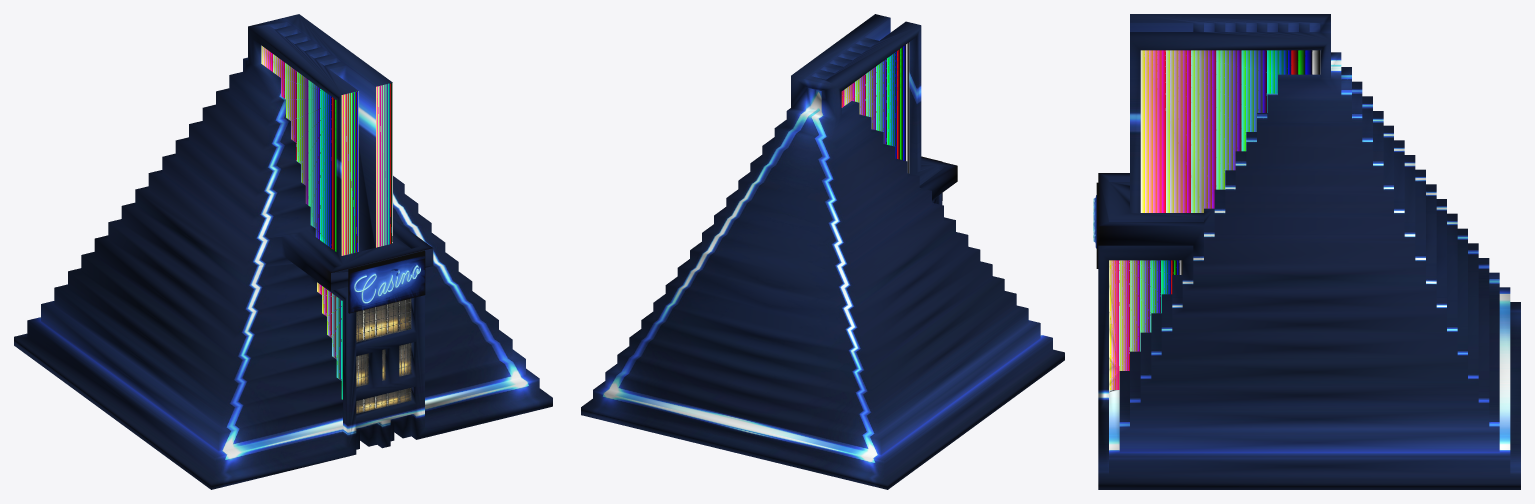
Rendered from pyramid_casino.glb.
3 views of the same model, side by side, from view 1: azimuth 30°, elevation 25°; view 2: azimuth 150°, elevation 25°; view 3: azimuth 270°, elevation 25° (orthographic). The views are drawn at different scales.
Visible parts, largest first — view 1: Object_3, Object_5, Object_4, Object_6, Object_2; view 2: Object_3, Object_5; view 3: Object_3, Object_5.
Boxes of the visible parts, x1,y1,x2,y2 form: Object_3: [14, 14, 552, 489]; Object_5: [261, 45, 424, 399]; Object_4: [356, 298, 411, 413]; Object_6: [349, 251, 425, 313]; Object_2: [331, 248, 433, 290]; Object_3: [581, 14, 1064, 489]; Object_5: [841, 42, 942, 200]; Object_3: [1098, 14, 1520, 489]; Object_5: [1096, 50, 1320, 389].
Size of the model in its own units: 50.78 by 49.52 by 51.42.
5 materials, 5 textured.
